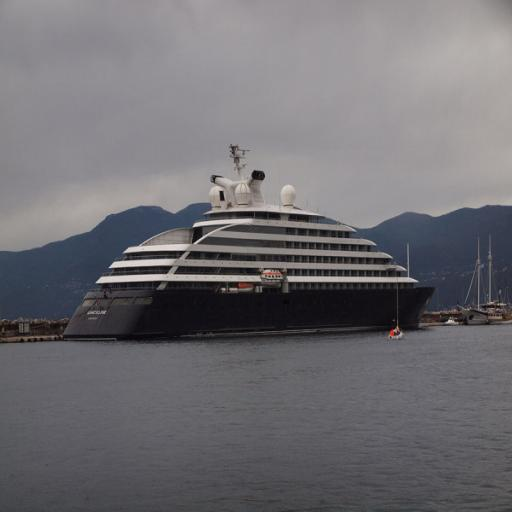cruises: (61, 143, 439, 346)
